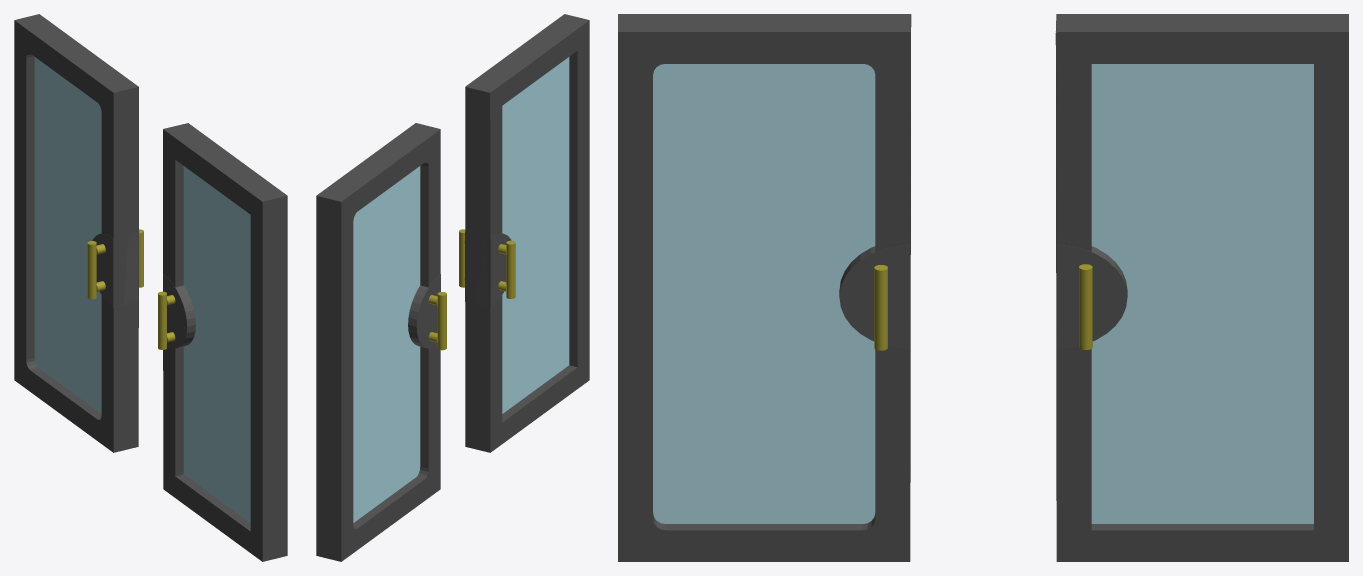
Rendered from kapı bölüm.fbx.
The picture shows the model from 3 angles, left to right: view 1: azimuth 30°, elevation 25°; view 2: azimuth 150°, elevation 25°; view 3: azimuth 270°, elevation 25°; orthographic projection. The views are drawn at different scales.
Parts seen in each view (by area): view 1: Cube.001, Cube.002; view 2: Cube.002, Cube.001; view 3: Cube.001, Cube.002.
Part boxes in pixels (x1=…): Cube.001: x1=158, y1=123, x2=287, y2=561; Cube.002: x1=14, y1=14, x2=143, y2=452; Cube.002: x1=316, y1=123, x2=446, y2=561; Cube.001: x1=459, y1=14, x2=589, y2=452; Cube.001: x1=618, y1=14, x2=911, y2=561; Cube.002: x1=1055, y1=14, x2=1348, y2=561.
Bounding box in the file's own units: 32.62 × 200 × 250.
